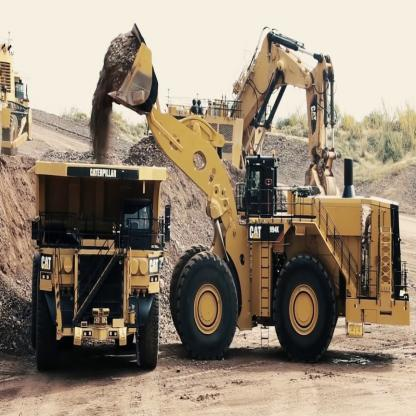bull_dozer/loader/grader: (99, 16, 416, 369)
dump_truck: (27, 151, 165, 382)
